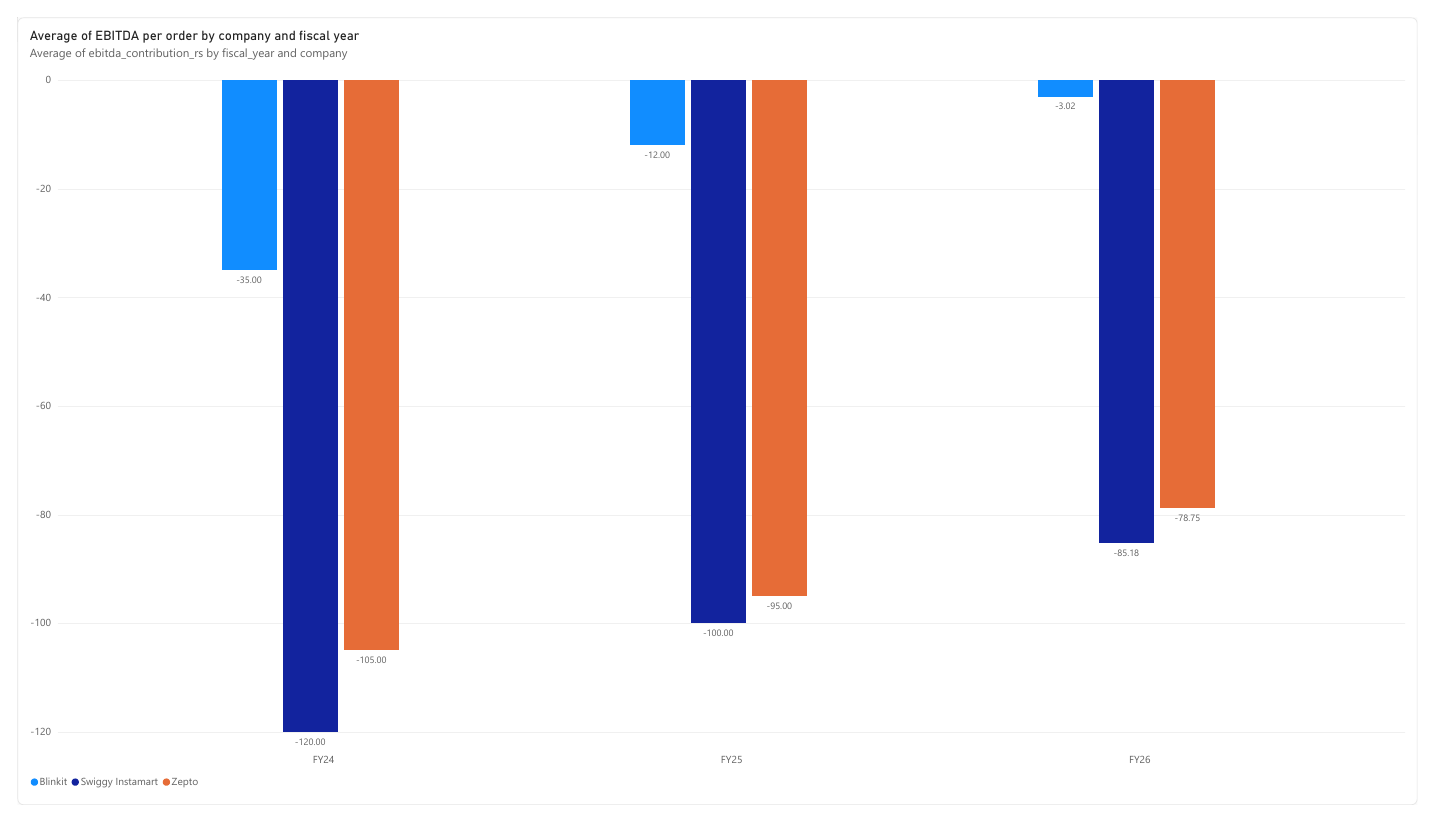

The page's visual inventory and layout, read from the dashboard file:
{"tool":"powerbi","page":{"name":"EBITDA Trend","canvas":[1920,1080],"ordinal":0},"visuals":[{"type":"clusteredColumnChart","title":"Average of EBITDA per order by company and fiscal year ","fields":{"Category":["public fact_orders.fiscal_year"],"Series":["public fact_orders.company"],"Y":["Avg(public fact_orders.ebitda_contribution_rs)"]},"box":[0,0,1920,1080],"z":0}]}

Visuals, with their boxes in screenshot pixels (x1, y1, x2, y2), scaled from the page's 1920x1080 canvas onto the 1435x823 screenshot:
"Average of EBITDA per order by company and fiscal year " clusteredColumnChart: <region>0, 0, 1434, 822</region>
